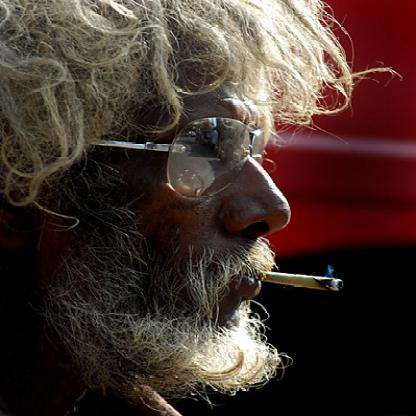smoking: (247, 270, 343, 290)
